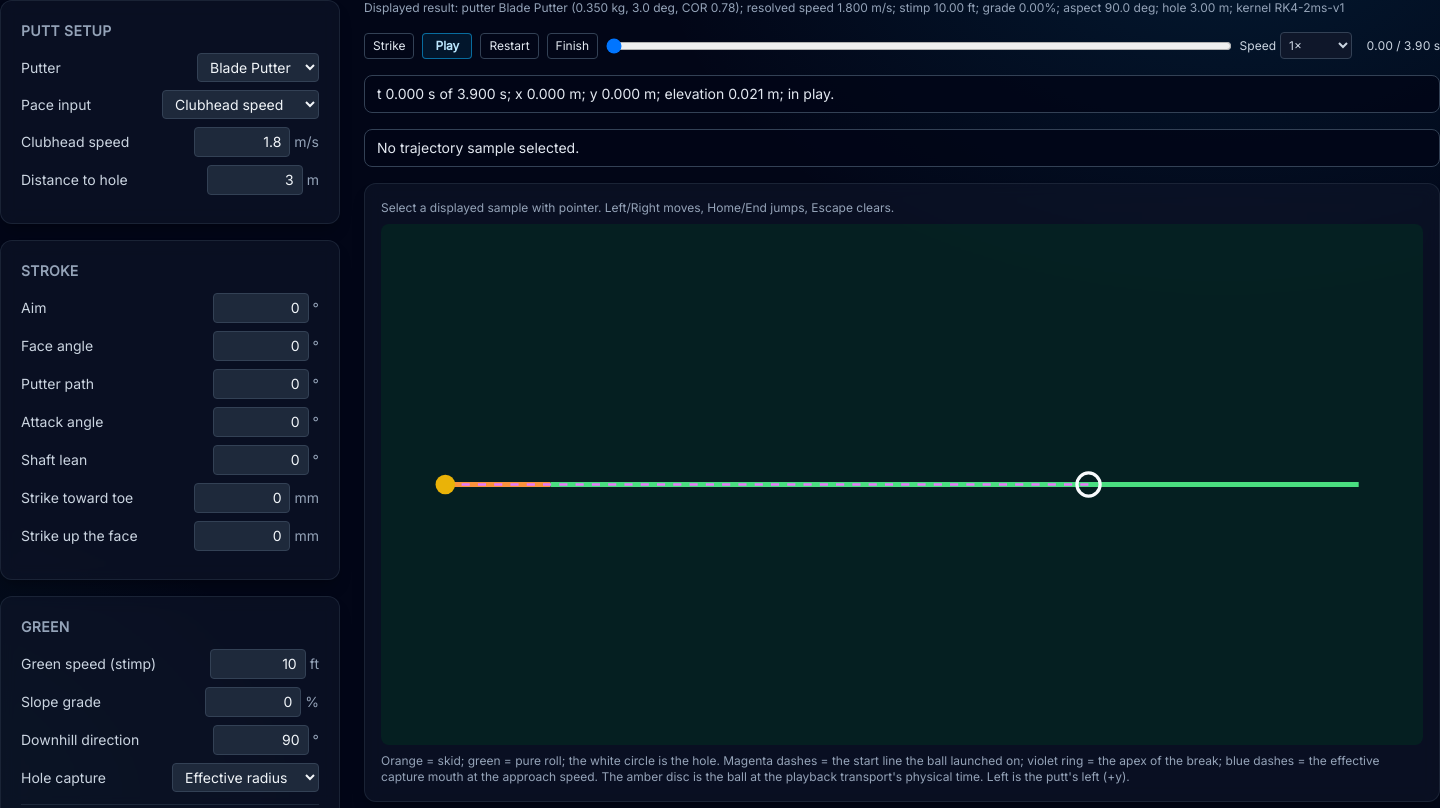
Test: PuttingPanel accepted-study authority › retains the exact accepted inspector when a scientific replacement fails
Press Home in the picture named "interactive putt path", box [381,224,1423,745]
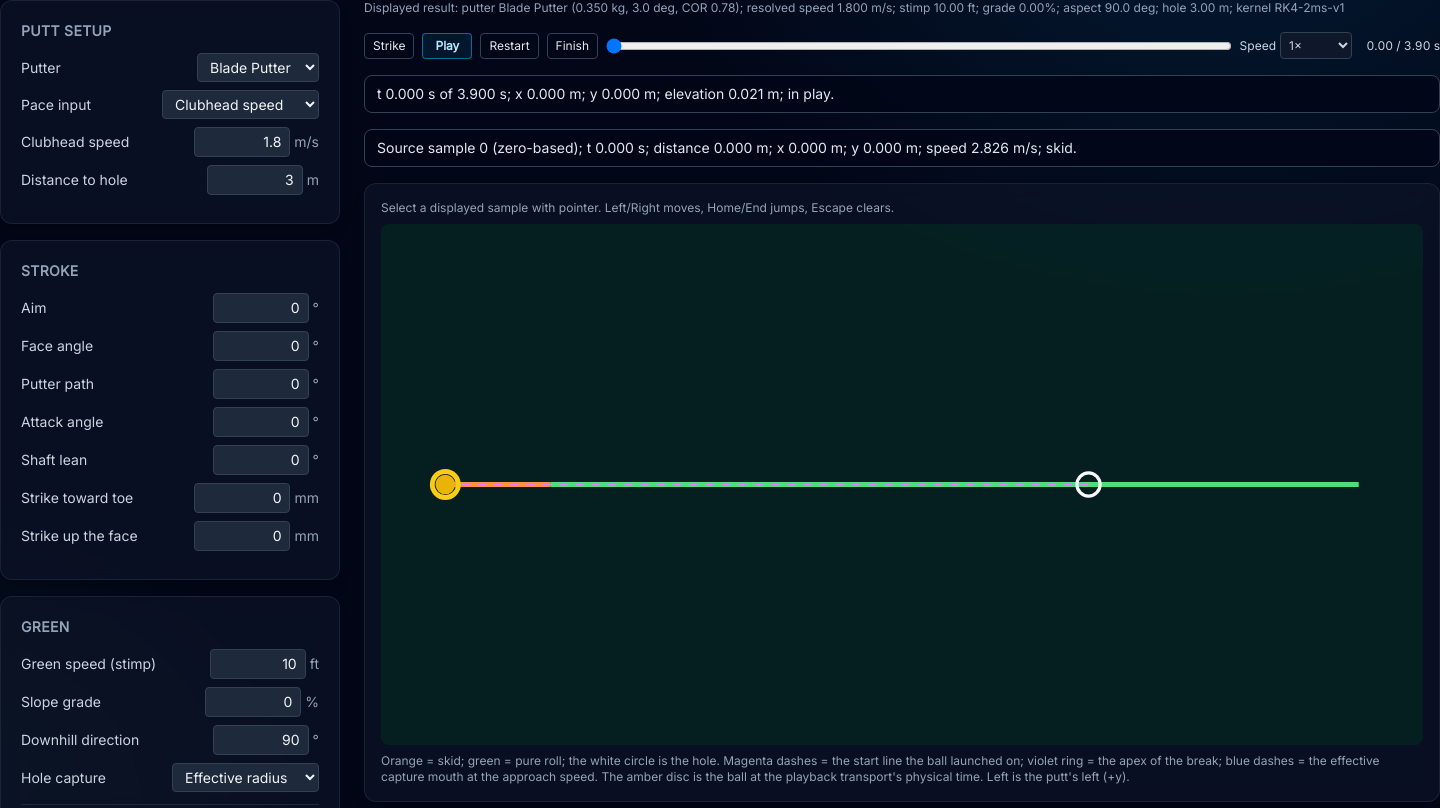
Replace the text in the field labelled "Slope grade %" with "1" at (253, 702), box [205,687,301,717]
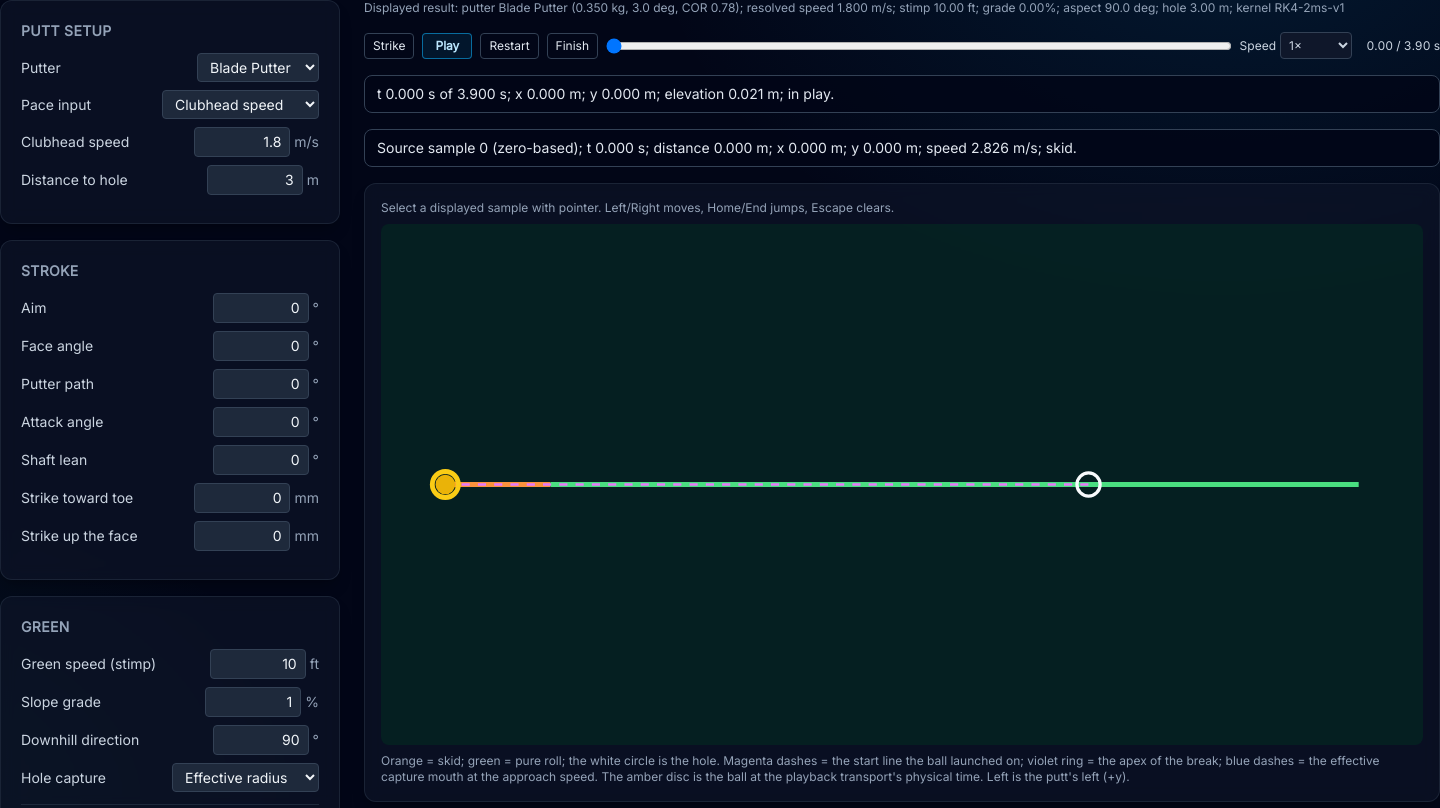
Leave the field labelled "Slope grade %", box [205,687,301,717]
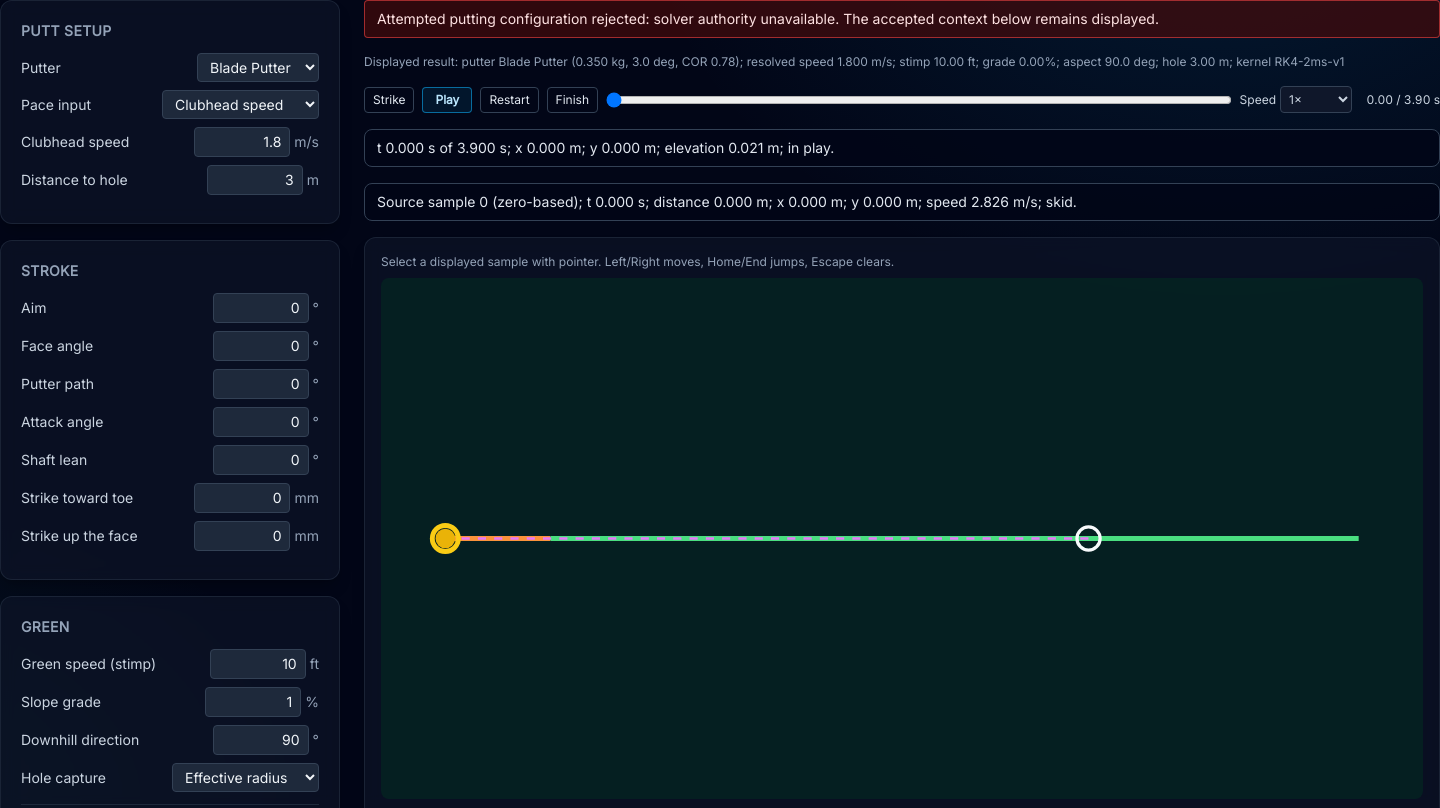
Expected: the message named "Selected putt sample" shows "Source sample 0", [377,193,1077,210]
Expected: the 1st message shows "solver authority unavailable", [653,10,835,27]
